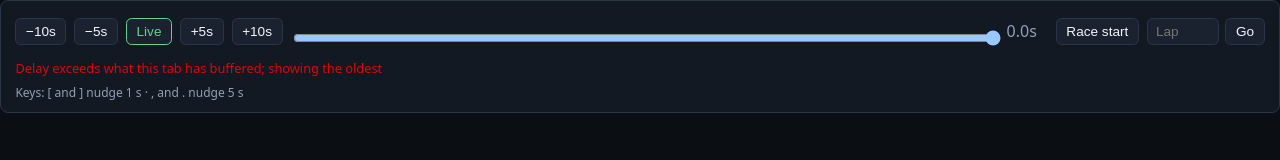
it: TransportBar -- notice() › shows a notice alongside a failed jump message rather than replacing it
The image size is (1280, 160).
Click the button "Race start" at point(1097, 31), box x1=1056 y1=18 x2=1139 y2=45
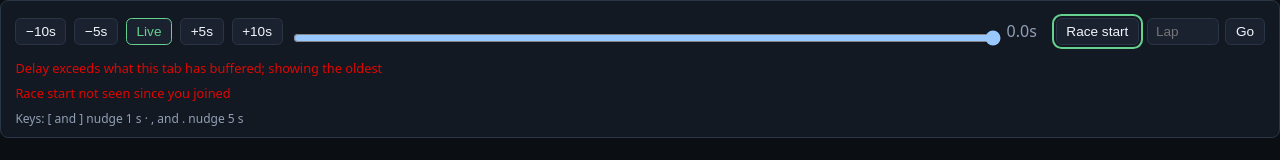
Expected: the text "Delay exceeds what this tab has buffered; showing the oldest" is shown, x1=15 y1=59 x2=382 y2=77
Result: the text "Race start not seen since you joined" is shown at x1=15 y1=84 x2=231 y2=102
